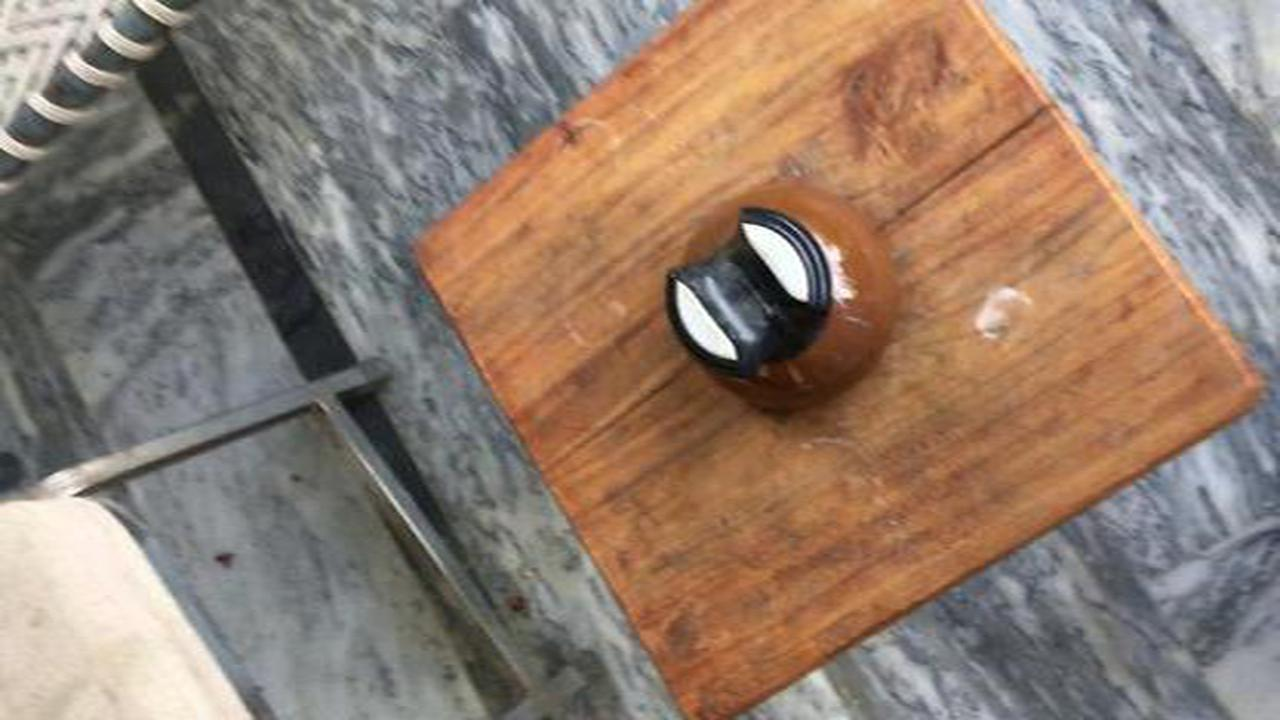insulator_pin: (644, 187, 924, 423)
